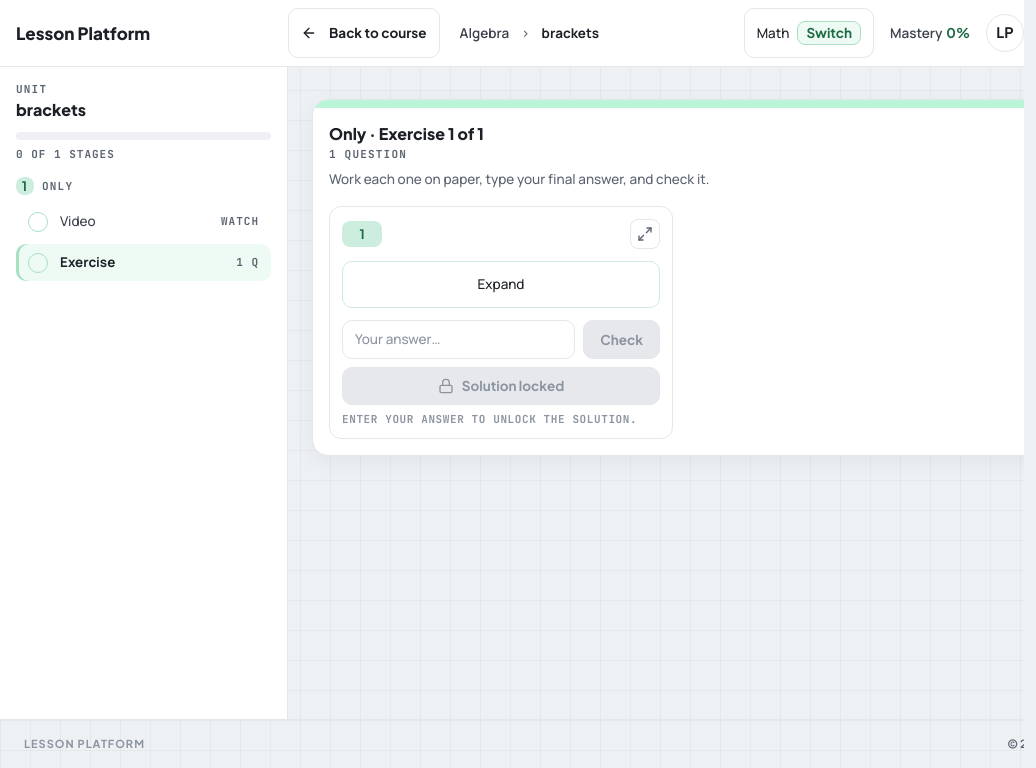
Test: ExercisePage — completion & gating › marks a wrong answer 'Incorrect' (no 'Try again') yet still completes the stage
The image size is (1036, 768).
Expected: the text "Exercise 1 complete" is not shown
Type "4x + 9" into the field labelled "Your answer".
click(459, 339); type("4x + 9")  # box top-left (342, 320), bottom-right (575, 359)
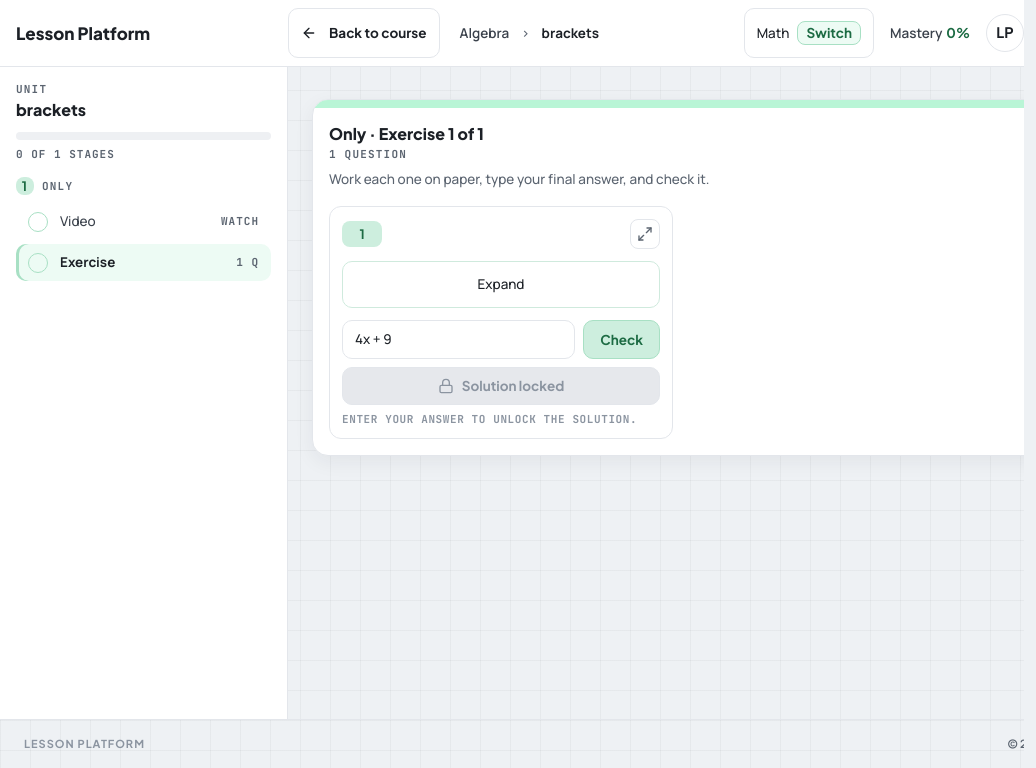
Click the button "Check".
click(622, 339)  # box top-left (583, 320), bottom-right (660, 359)
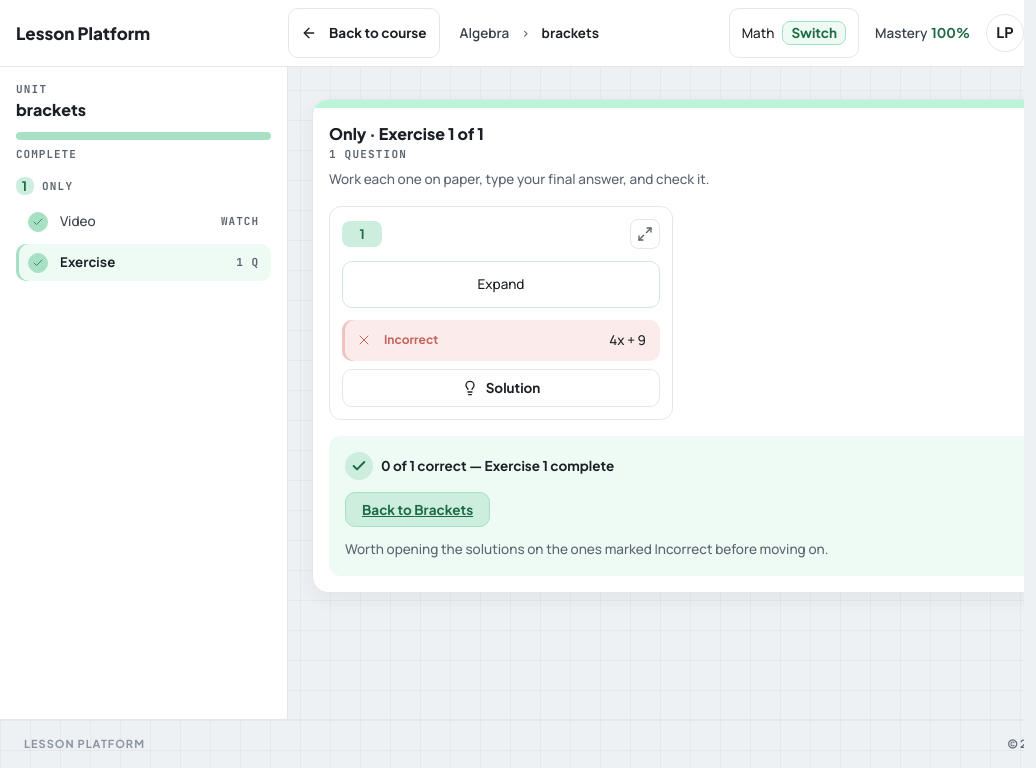
Expected: the text "Incorrect" is shown, top-left (384, 334), bottom-right (438, 346)
Expected: the text "0 of 1 correct — Exercise 1 complete" is shown, top-left (345, 452), bottom-right (614, 480)
Expected: the text "marked Incorrect" is shown, top-left (345, 540), bottom-right (828, 558)
